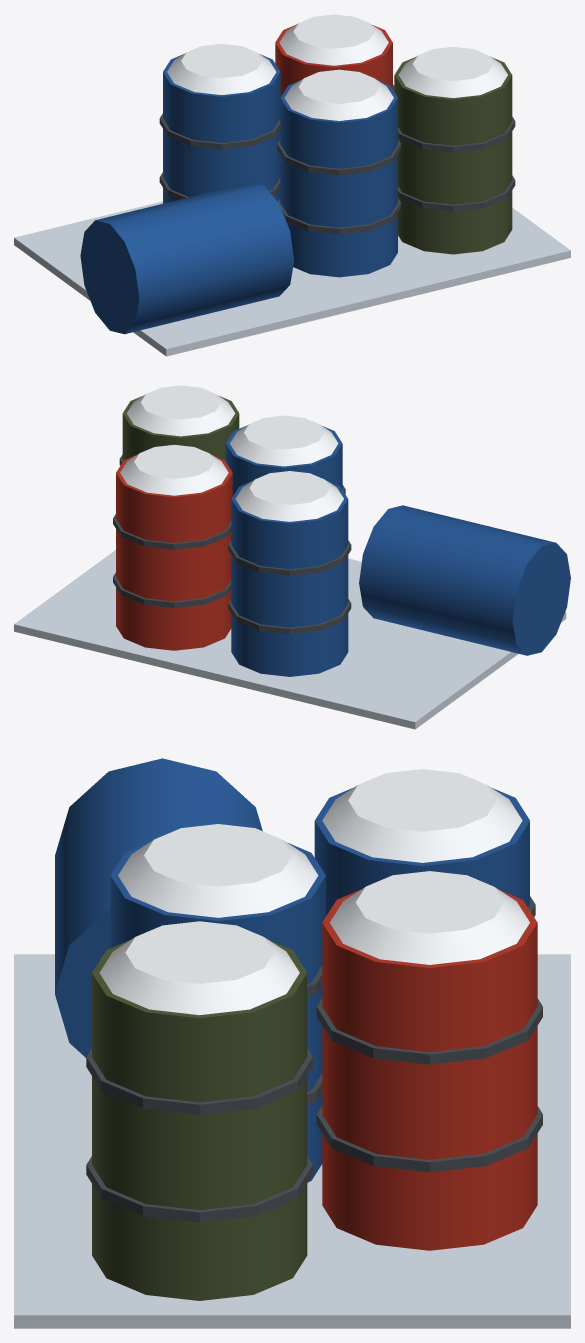
Rendered from so_drums.glb.
3 views of the same model, one above another, from view 1: azimuth 30°, elevation 25°; view 2: azimuth 150°, elevation 25°; view 3: azimuth 270°, elevation 25° (orthographic). The views are drawn at different scales.
Parts seen in each view (by area): view 1: so_drums; view 2: so_drums; view 3: so_drums.
Boxes of the visible parts, left/top/right/bottom form: so_drums: left=14, top=14, right=570, bottom=356; so_drums: left=14, top=385, right=570, bottom=729; so_drums: left=14, top=758, right=570, bottom=1328.
Size of the model in its own units: 2.39 by 0.94 by 1.5.
